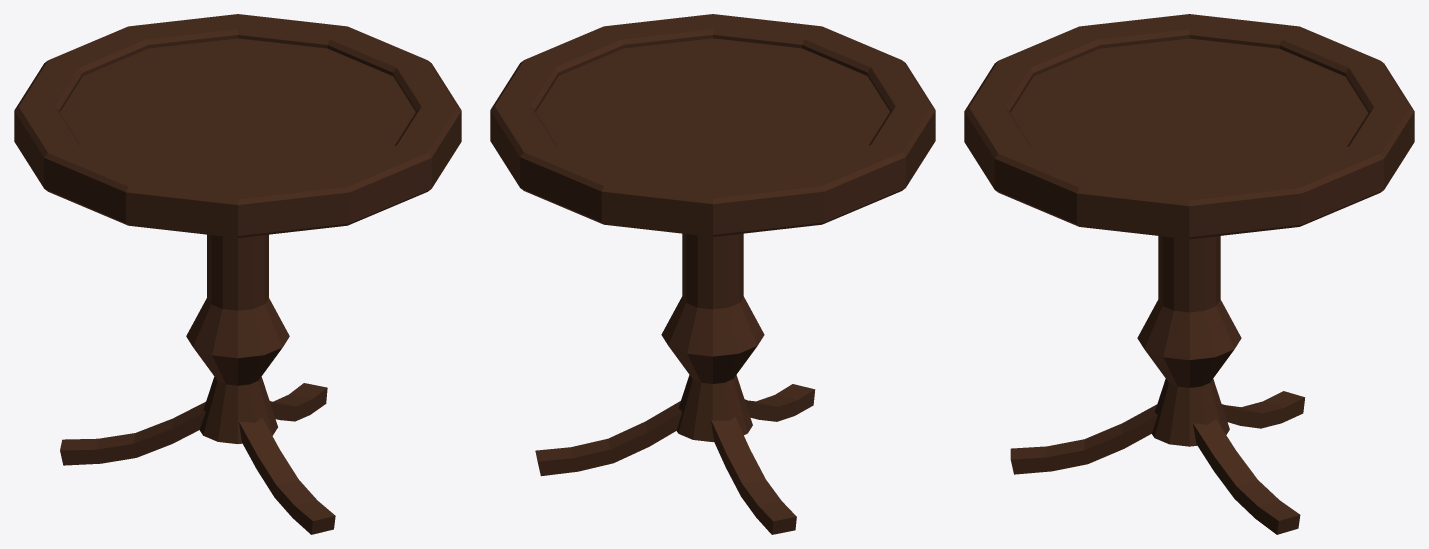
File: Table-MuBw2WmVTU.glb
The picture shows the model from 3 angles, left to right: view 1: azimuth 30°, elevation 25°; view 2: azimuth 150°, elevation 25°; view 3: azimuth 270°, elevation 25°; orthographic projection.
Parts seen in each view (by area): view 1: Table2; view 2: Table2; view 3: Table2.
Part boxes in pixels (x1=…): Table2: x1=14, y1=14, x2=461, y2=534; Table2: x1=490, y1=14, x2=935, y2=534; Table2: x1=964, y1=14, x2=1414, y2=534.
Bounding box in the file's own units: 0.8583 × 0.7642 × 0.8583.
